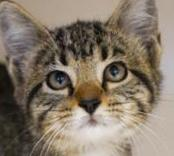bengal: (1, 1, 169, 149)
